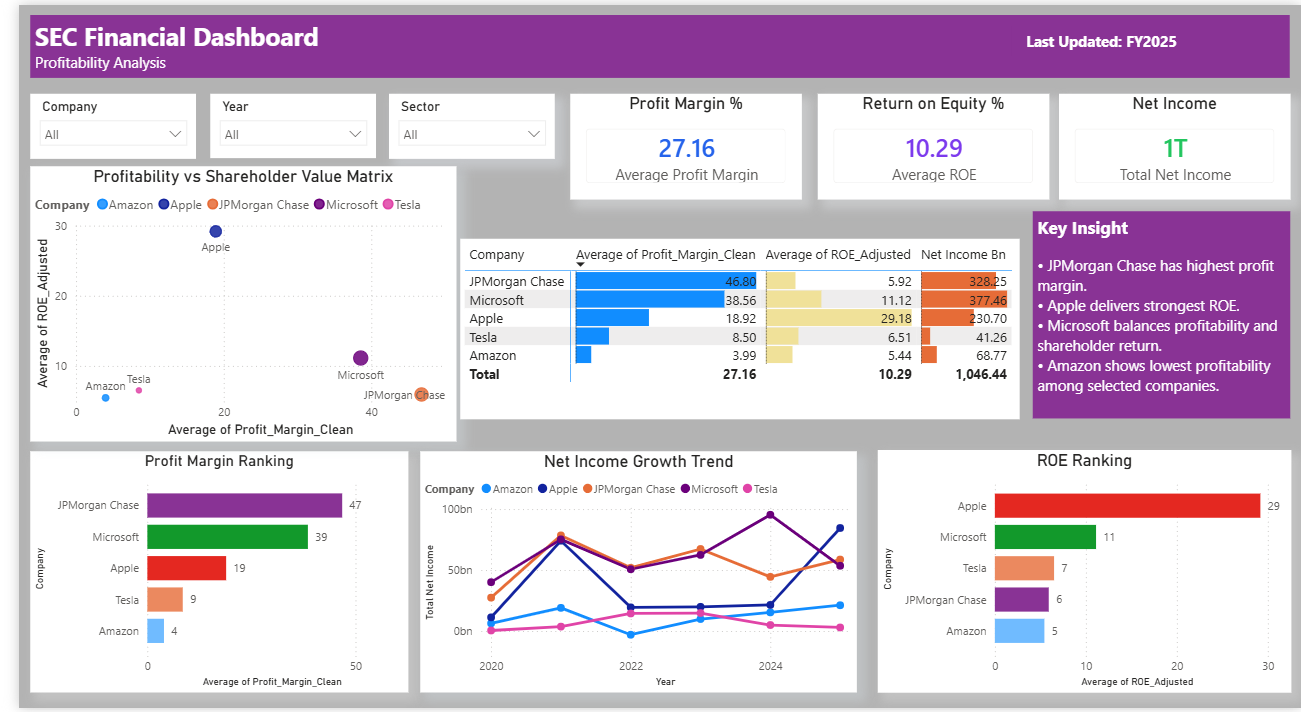

The page's visual inventory and layout, read from the dashboard file:
{"tool":"powerbi","page":{"name":"Profitability Analysis","canvas":[1386,760],"ordinal":1},"visuals":[{"type":"slicer","fields":{"Values":["SEC_Financials_Quarterly.Sector"]},"box":[400,96.2,179.5,70.5],"z":0},{"type":"cardVisual","title":"Profit Margin %","fields":{"Data":["SEC_Financials_Quarterly.Average Profit Margin"]},"box":[596.2,96.2,250,114.1],"z":1000},{"type":"cardVisual","title":"Return on Equity %","fields":{"Data":["SEC_Financials_Quarterly.Average ROE"]},"box":[864.1,96.2,250,114.1],"z":2000},{"type":"cardVisual","title":"Net Income","fields":{"Data":["SEC_Financials_Quarterly.Total Net Income"]},"box":[1124.4,96.2,250,114.1],"z":3000},{"type":"clusteredBarChart","title":"Profit Margin Ranking","fields":{"Category":["SEC_Financials_Quarterly.Company"],"Y":["Avg(SEC_Financials_Quarterly.Profit_Margin_Clean)"]},"box":[12.7,482.3,408.9,260.8],"z":4000},{"type":"clusteredBarChart","title":"ROE Ranking","fields":{"Category":["SEC_Financials_Quarterly.Company"],"Y":["Avg(SEC_Financials_Quarterly.ROE_Adjusted)"]},"box":[927.8,481,446.8,262],"z":5000},{"type":"scatterChart","title":"Profitability vs Shareholder Value Matrix","fields":{"X":["Avg(SEC_Financials_Quarterly.Profit_Margin_Clean)"],"Y":["Avg(SEC_Financials_Quarterly.ROE_Adjusted)"],"Series":["SEC_Financials_Quarterly.Company"],"Size":["SEC_Financials_Quarterly.Total Net Income"]},"box":[12.7,174.7,460.8,297.5],"z":6000},{"type":"lineChart","title":"Net Income Growth Trend","fields":{"Category":["DateTable.Year"],"Y":["SEC_Financials_Quarterly.Total Net Income"],"Series":["SEC_Financials_Quarterly.Company"]},"box":[434.2,482.3,472.2,260.8],"z":7000},{"type":"textbox","box":[12.8,10.3,1361.5,67.9],"z":8000},{"type":"textbox","box":[1073.1,23.1,194.9,32.1],"z":9000},{"type":"slicer","fields":{"Values":["SEC_Financials_Quarterly.Company"]},"box":[12.8,96.2,179.5,70.5],"z":10000},{"type":"slicer","fields":{"Values":["DateTable.Year"]},"box":[206.4,96.2,179.5,69.2],"z":11000},{"type":"textbox","box":[1096.2,223.1,278.2,224.4],"z":12000},{"type":"pivotTable","fields":{"Rows":["SEC_Financials_Quarterly.Company"],"Values":["Avg(SEC_Financials_Quarterly.Profit_Margin_Clean)","Avg(SEC_Financials_Quarterly.ROE_Adjusted)","SEC_Financials_Quarterly.Net Income Bn"]},"box":[476.9,252.6,605.1,194.9],"z":13000}]}

Visuals, with their boxes in screenshot pixels (x1, y1, x2, y2), scaled from the page's 1386x760 canvas onto the 1301x712 screenshot:
slicer - SEC_Financials_Quarterly.Sector: bbox(375, 90, 544, 156)
"Profit Margin %" cardVisual: bbox(560, 90, 794, 197)
"Return on Equity %" cardVisual: bbox(811, 90, 1046, 197)
"Net Income" cardVisual: bbox(1055, 90, 1290, 197)
"Profit Margin Ranking" clusteredBarChart: bbox(12, 452, 396, 696)
"ROE Ranking" clusteredBarChart: bbox(871, 451, 1290, 696)
"Profitability vs Shareholder Value Matrix" scatterChart: bbox(12, 164, 444, 442)
"Net Income Growth Trend" lineChart: bbox(408, 452, 851, 696)
textbox: bbox(12, 10, 1290, 73)
textbox: bbox(1007, 22, 1190, 52)
slicer - SEC_Financials_Quarterly.Company: bbox(12, 90, 181, 156)
slicer - DateTable.Year: bbox(194, 90, 362, 155)
textbox: bbox(1029, 209, 1290, 419)
pivotTable - SEC_Financials_Quarterly.Company x Avg(SEC_Financials_Quarterly.Profit_Margin_Clean): bbox(448, 237, 1016, 419)
